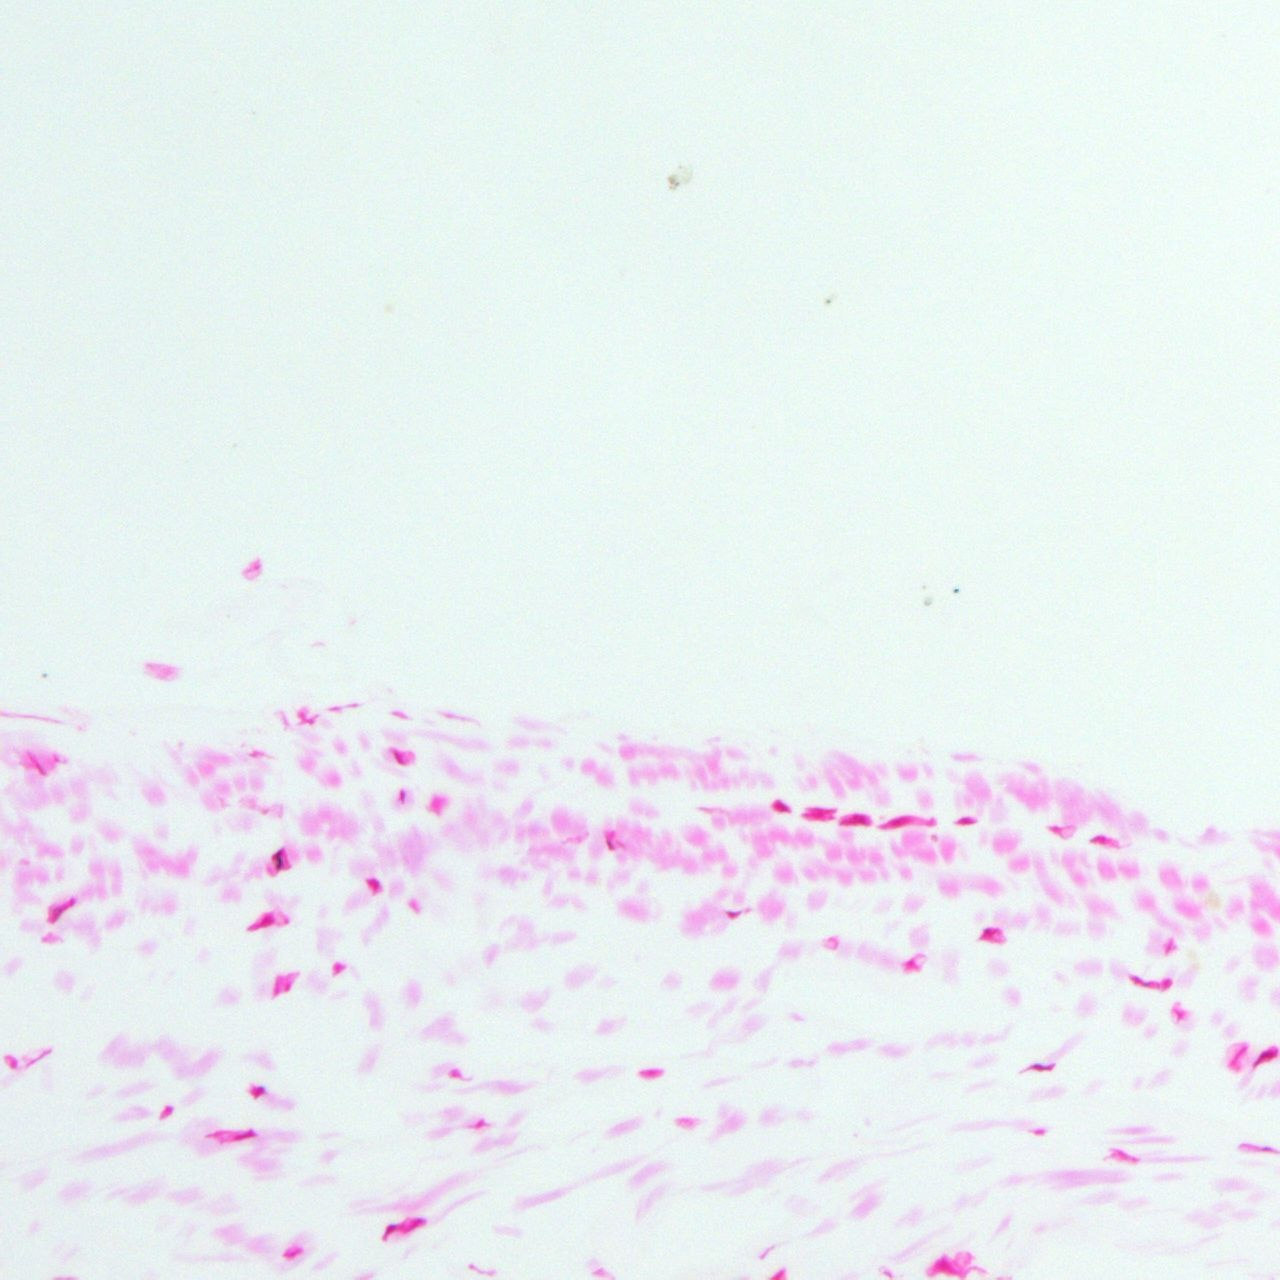dust: (664, 173, 679, 192), (42, 672, 47, 680)
nucleus-FG: (42, 892, 78, 923), (245, 910, 278, 933), (880, 812, 911, 832), (802, 805, 837, 821), (399, 1214, 426, 1234), (229, 1126, 259, 1142), (1128, 974, 1159, 988), (29, 753, 47, 777), (1020, 1062, 1055, 1074), (978, 927, 1005, 942), (839, 813, 872, 825), (1229, 1043, 1247, 1065), (379, 1221, 398, 1241), (157, 1103, 175, 1122), (390, 749, 408, 768), (931, 1256, 951, 1272), (365, 877, 382, 895), (770, 799, 791, 813), (1048, 823, 1069, 835), (283, 1247, 302, 1260), (272, 850, 284, 870), (249, 1084, 264, 1098), (953, 816, 976, 825), (1087, 834, 1107, 844), (724, 910, 742, 920), (1163, 940, 1174, 956), (1161, 975, 1172, 989), (604, 837, 614, 851), (399, 789, 407, 805), (271, 984, 278, 999), (476, 1119, 487, 1128), (283, 982, 292, 993)
